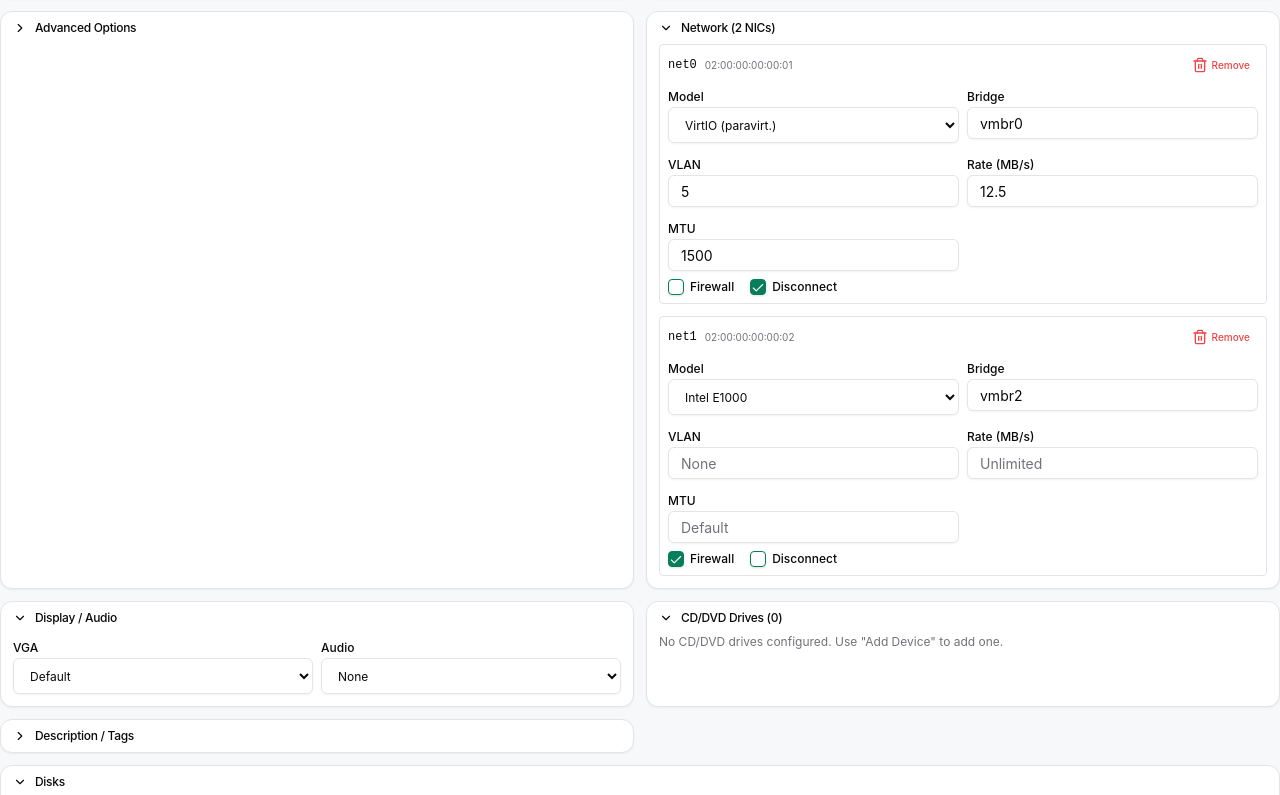
HardwarePanel dirty check › sends only the removal for a NIC or disk edited and then removed, and the edit for one that is kept
(page scrolled)
Expected: the text "02:00:00:00:00:01" is shown, [705, 58, 792, 72]
Replace the text in the field below "02:00:00:00:00:02" with "vmbr3": (1112, 395) [967, 379, 1258, 411]
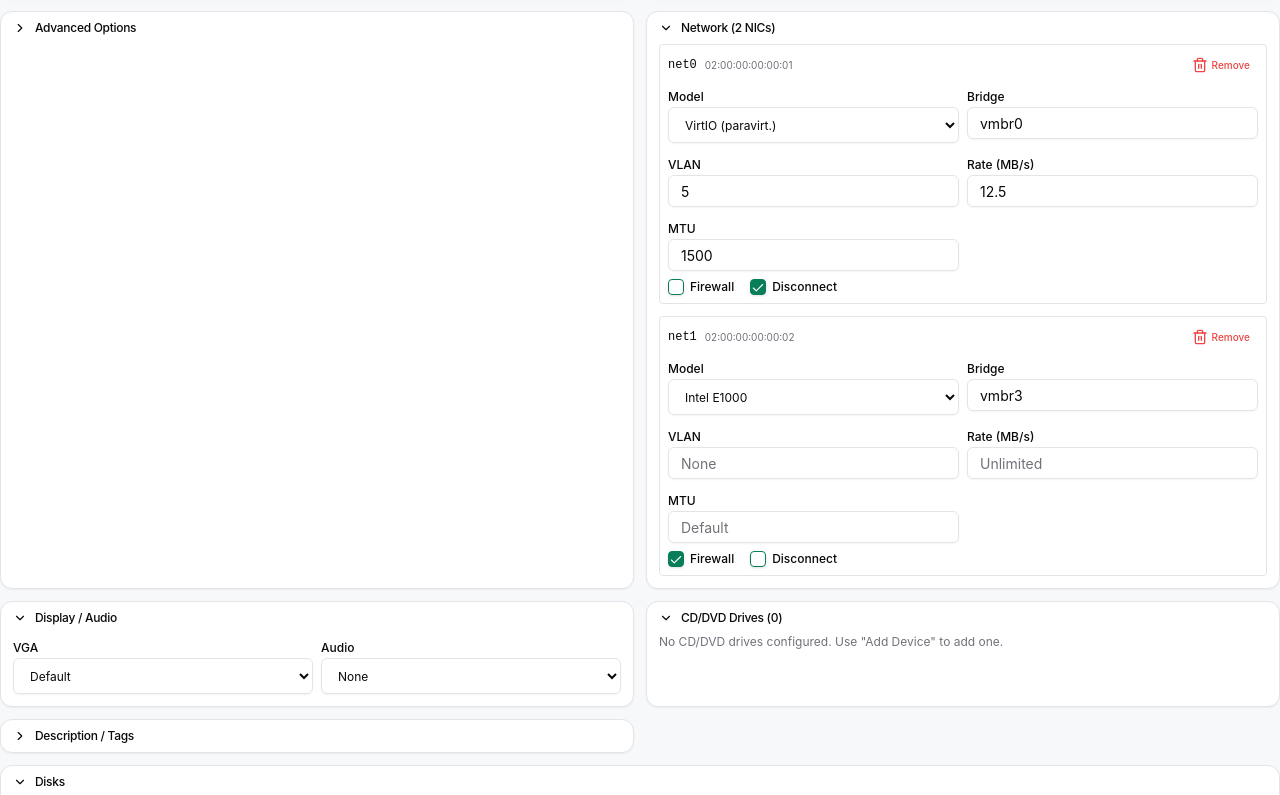
In the field below "02:00:00:00:00:01": (1112, 123) [967, 107, 1258, 139], type "vmbr9"
Click the button "Remove" in the row of "02:00:00:00:00:01": click(1221, 65) [1184, 53, 1258, 77]
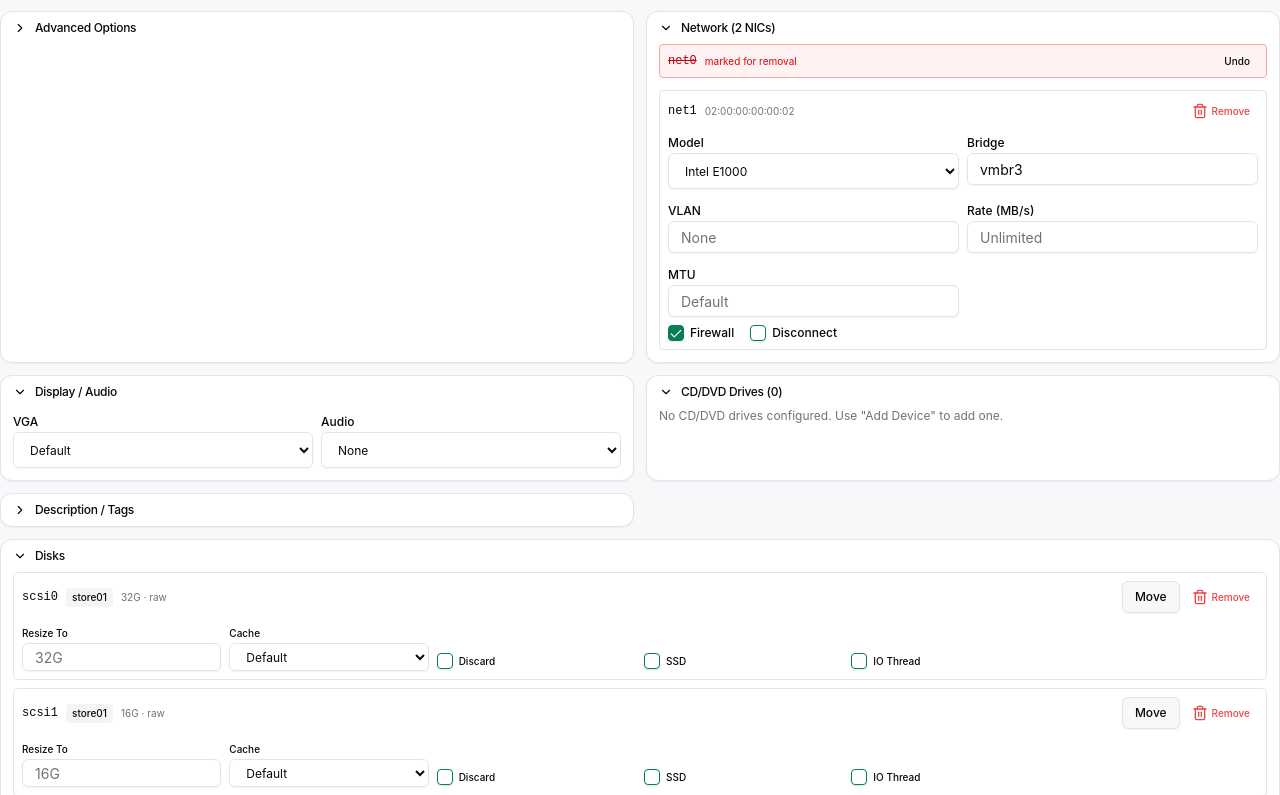
Select "Write back (unsafe)" in the 4th dropdown: (329, 657) [229, 643, 429, 671]
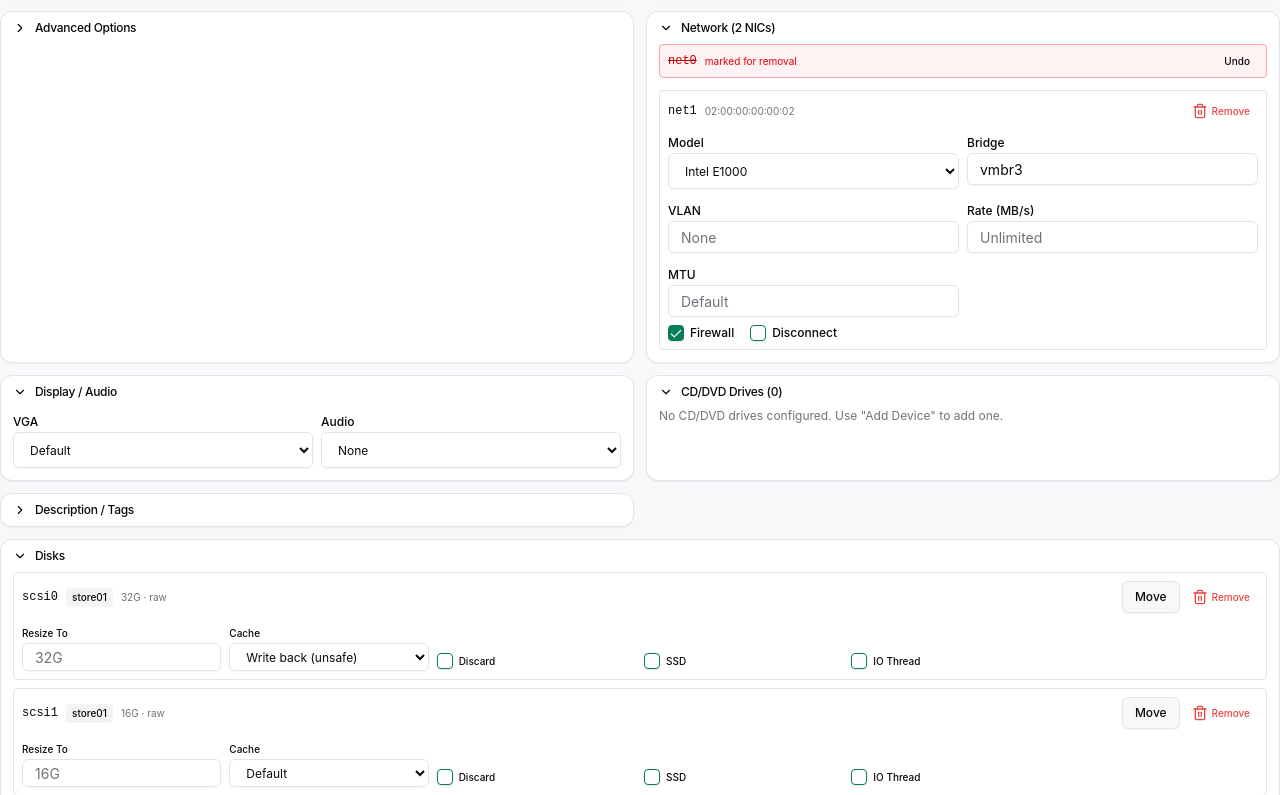
Select "Write back (unsafe)" in the 5th dropdown: (329, 773) [229, 759, 429, 787]
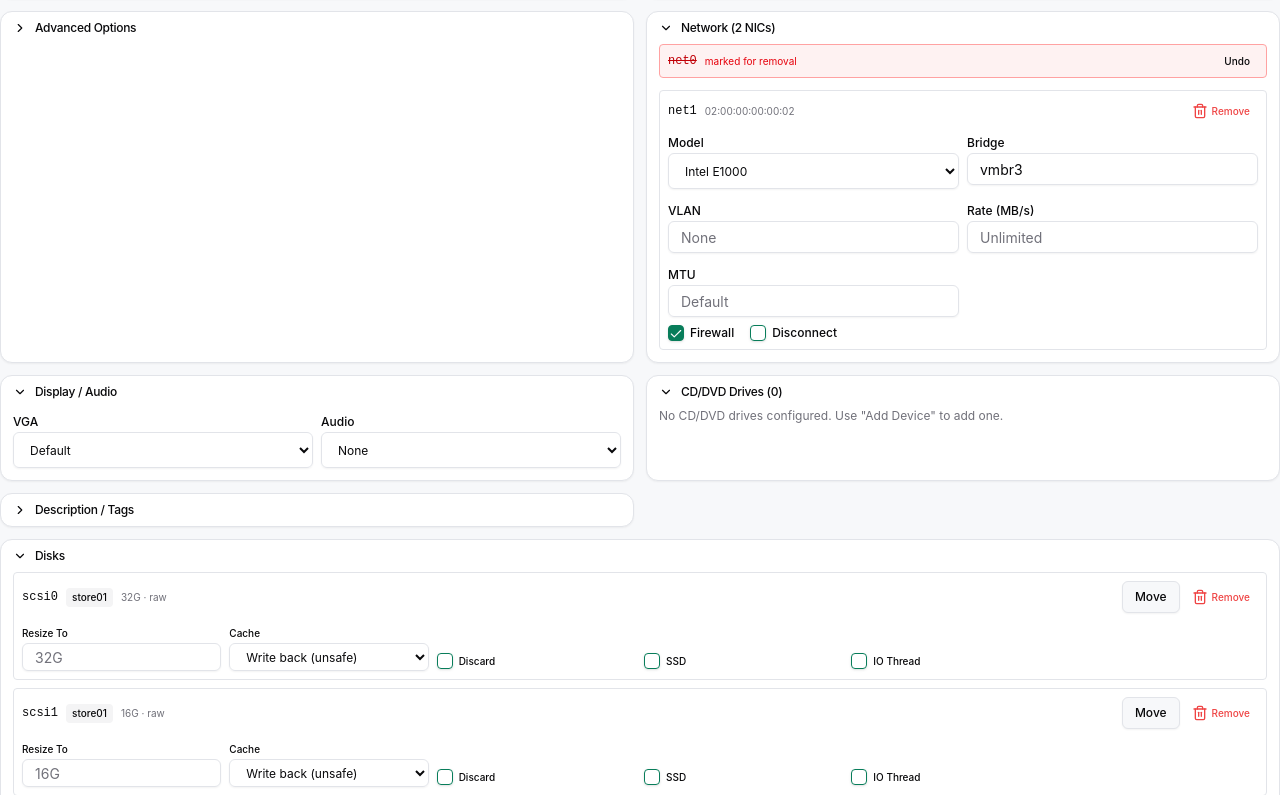
In the field with placeholder "16G": (122, 773) [22, 759, 221, 787], type "40G"
Click the 3rd button "Remove": click(1221, 713) [1184, 701, 1258, 725]
(page scrolled)
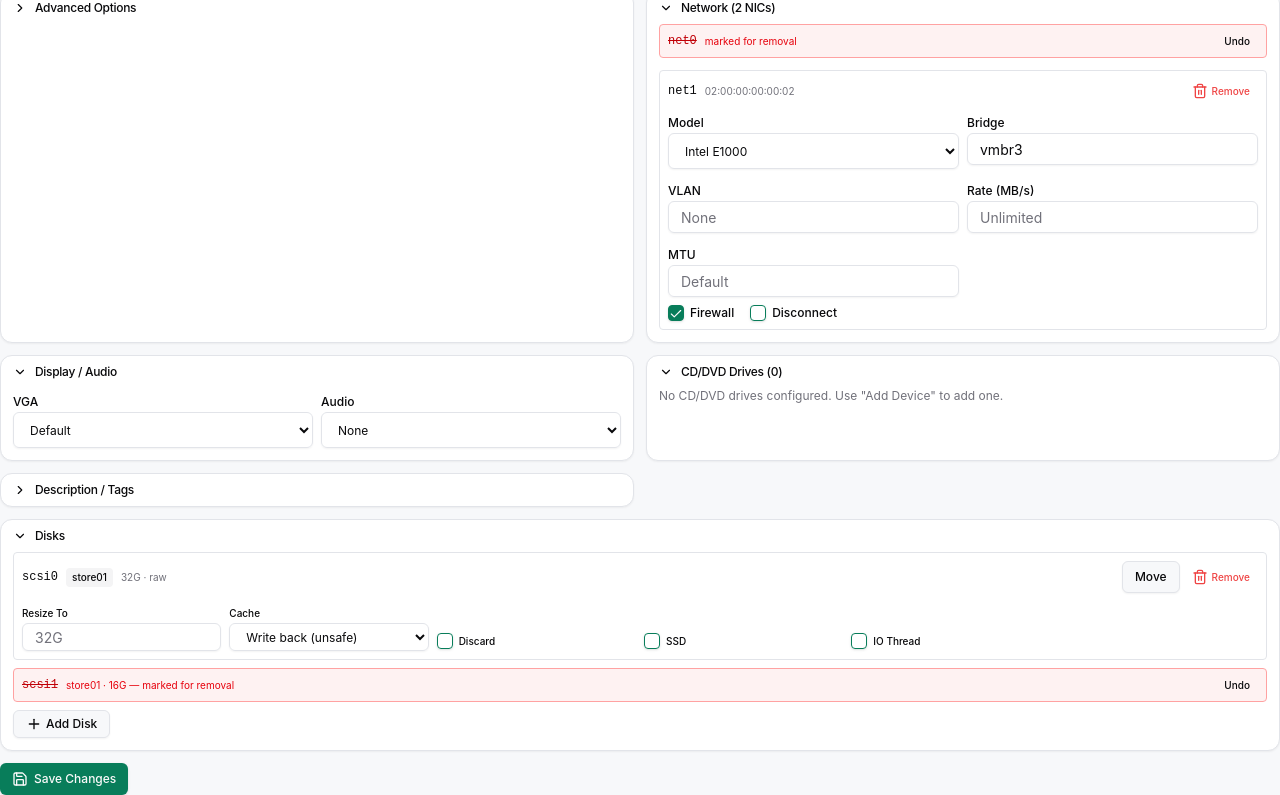
Now the button "Save Changes" is enabled
Click the button "Save Changes": click(64, 779) [0, 763, 128, 794]
(page scrolled)
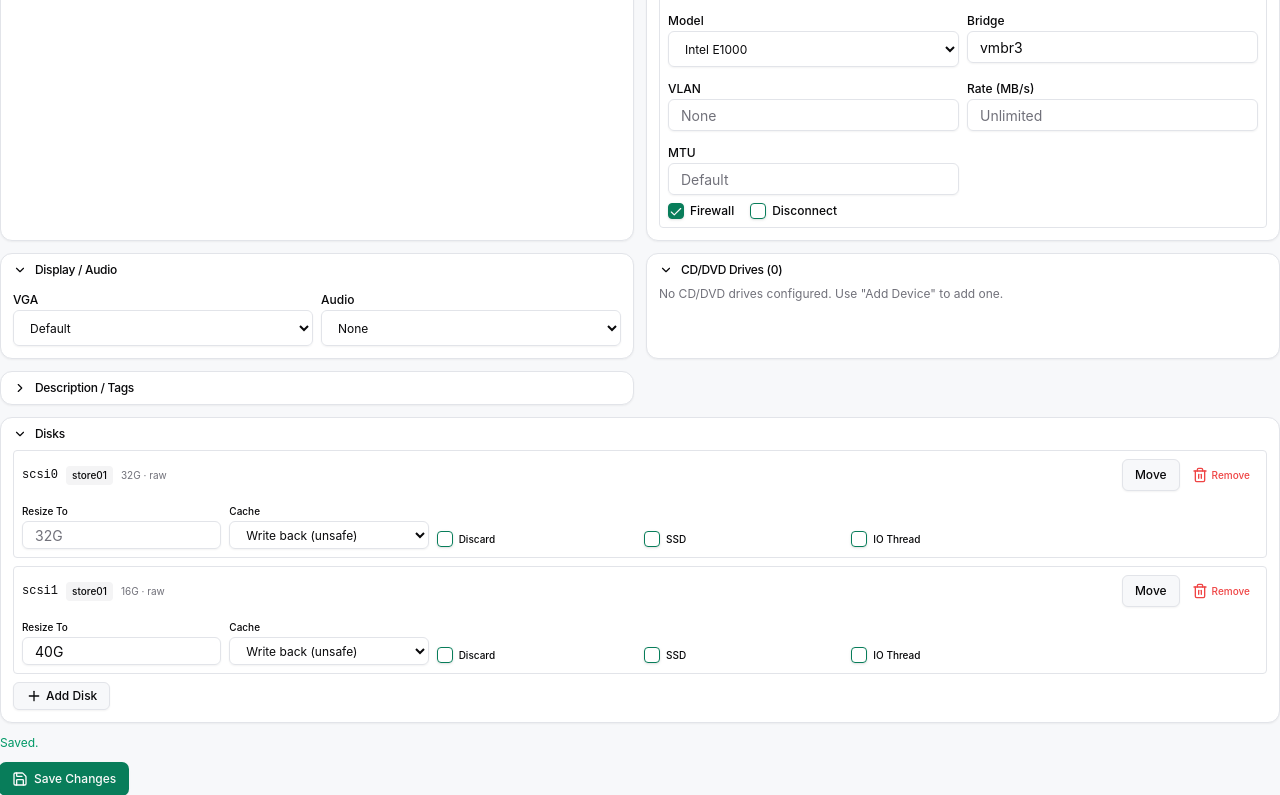
Now the text "Saved." is shown, box [0, 735, 39, 750]
